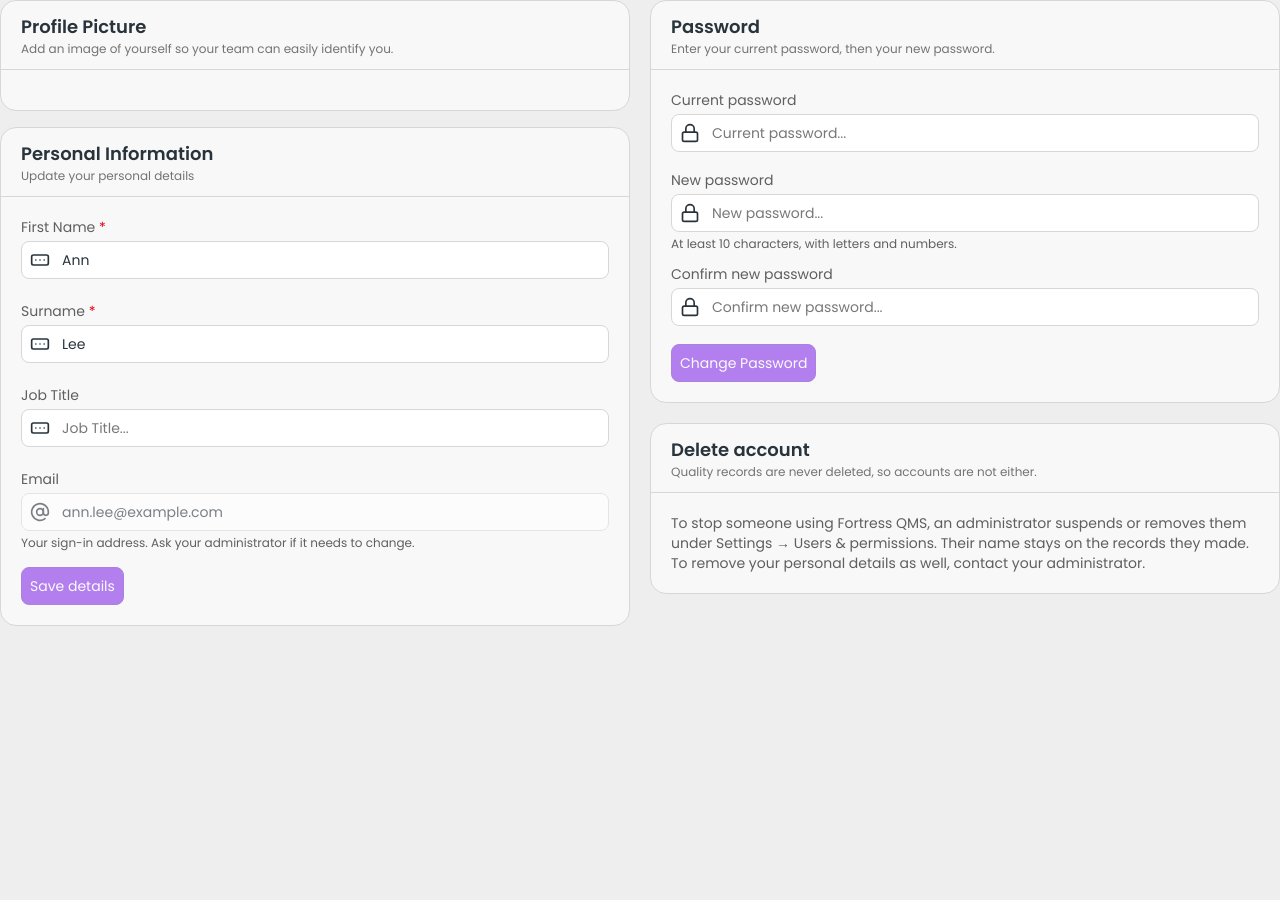
Test: Settings → Account › masks the password boxes and checks the current password first
This screenshot has width=1280, height=900.
Type "wrongpass1" into the password field labelled "Current password".
click(965, 133); type("wrongpass1")  # box [712,115,1218,151]
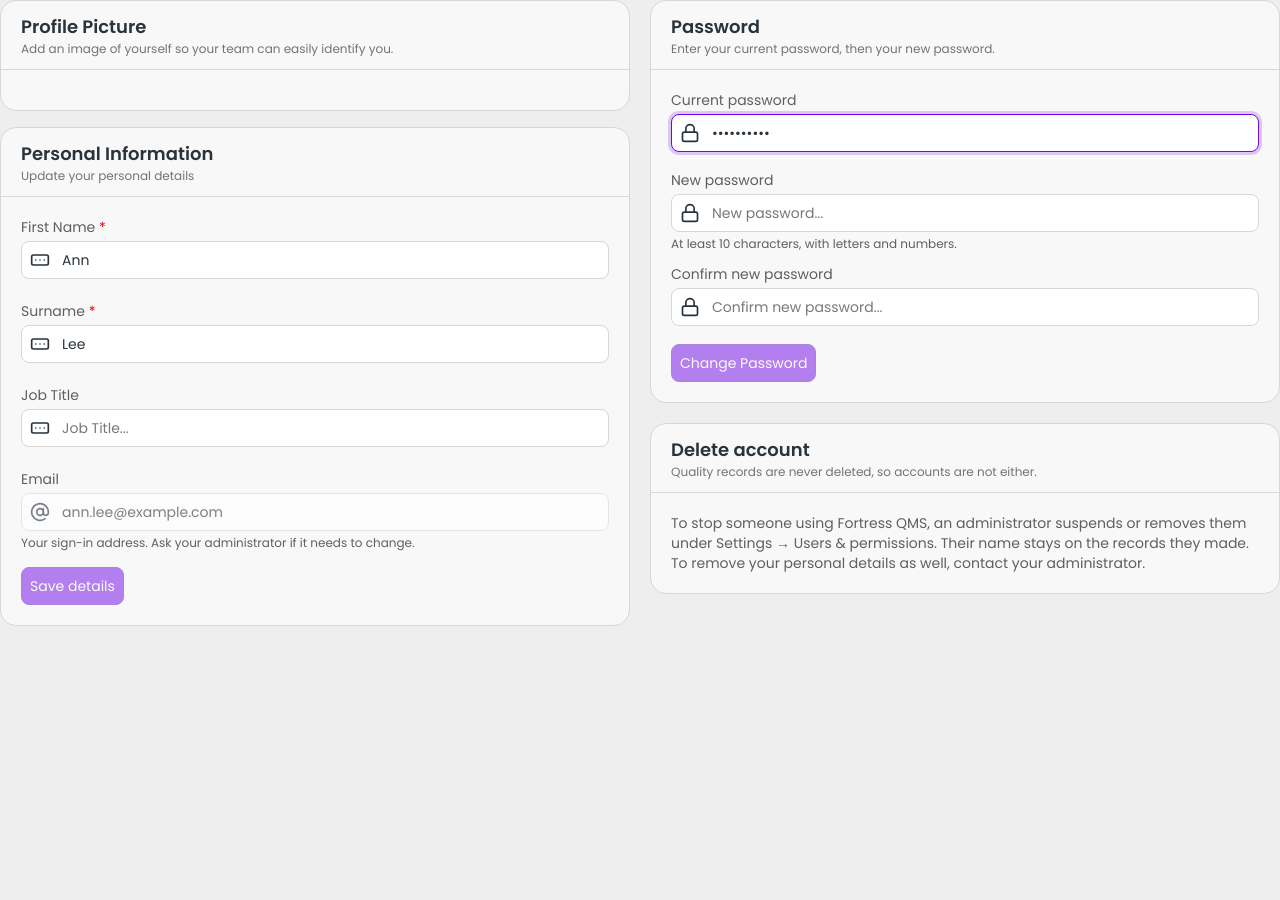
Type "Brand-new-pass1" into the password field labelled "New password".
click(965, 213); type("Brand-new-pass1")  # box [712,195,1218,231]
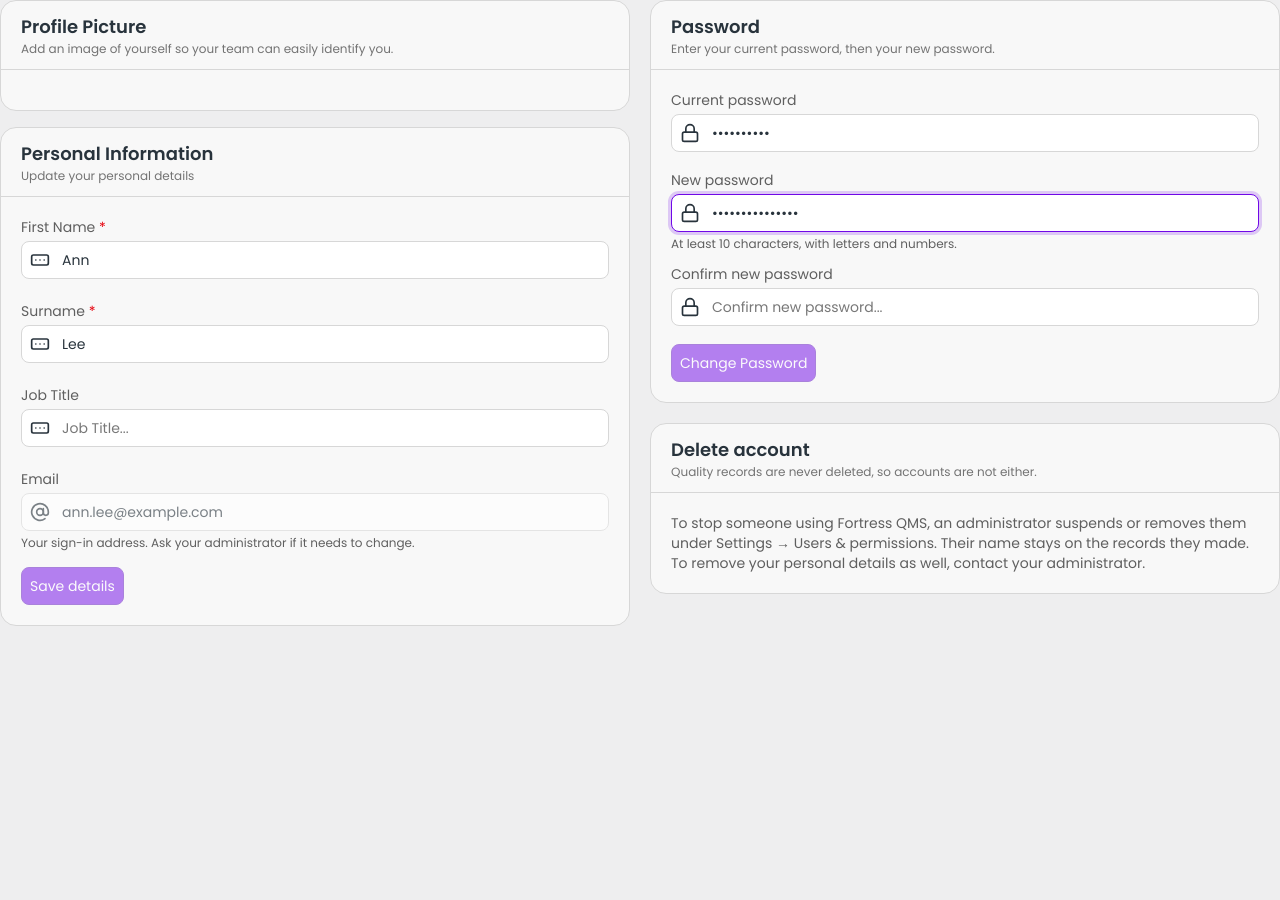
Type "Brand-new-pass1" into the password field labelled "Confirm new password".
click(965, 307); type("Brand-new-pass1")  # box [712,289,1218,325]
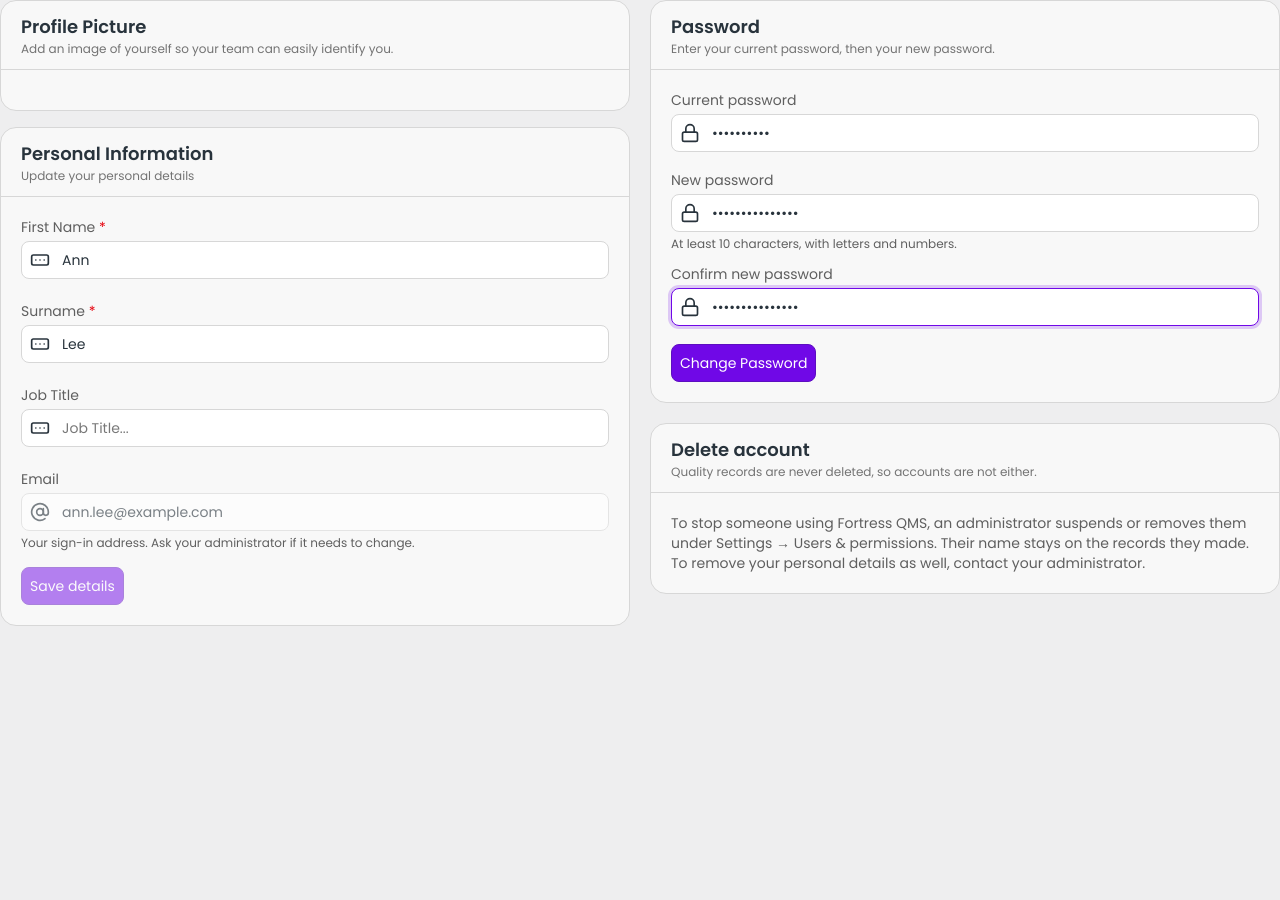
Click the button "Change Password".
click(744, 363)  # box [671,344,816,382]
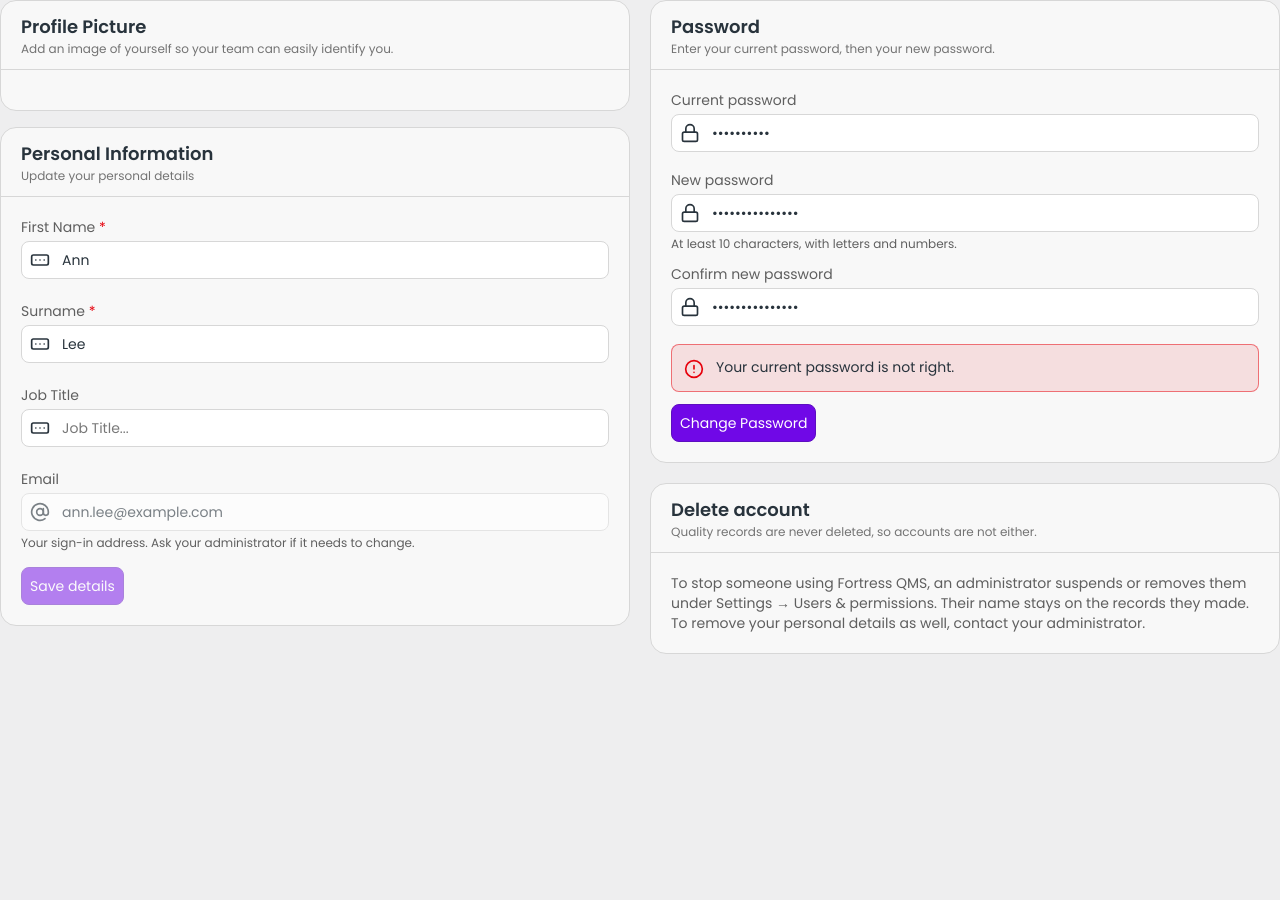
Expected: the text "Your current password is not right." is shown, [716,357,954,377]
